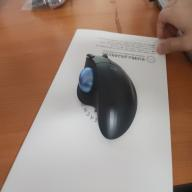mouse: (75, 51, 139, 141)
